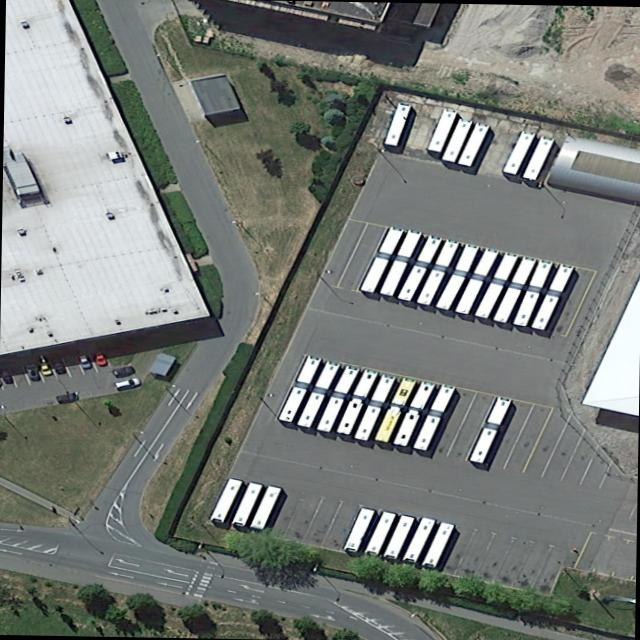large-vehicle: (357, 225, 406, 292), (472, 250, 520, 317), (452, 246, 500, 313), (433, 242, 481, 309), (491, 254, 538, 322), (276, 354, 323, 422), (377, 227, 424, 295), (314, 364, 361, 431), (414, 237, 461, 304), (295, 359, 341, 427), (410, 382, 456, 450), (352, 372, 397, 441), (467, 394, 512, 463), (529, 262, 575, 329), (334, 367, 380, 434), (373, 375, 419, 442), (396, 233, 442, 300), (391, 379, 436, 446), (511, 257, 554, 326), (400, 515, 436, 562), (501, 129, 538, 174), (420, 520, 455, 567), (208, 476, 244, 521), (362, 509, 397, 555), (456, 120, 491, 166), (341, 506, 376, 551), (424, 106, 459, 151), (520, 134, 555, 179), (229, 480, 263, 526), (248, 483, 282, 529), (440, 117, 474, 162), (382, 513, 415, 558), (382, 101, 414, 145)
small-vehicle: (112, 375, 142, 389), (23, 362, 41, 380), (50, 355, 67, 374), (91, 348, 109, 365), (112, 364, 135, 376), (36, 359, 53, 375), (55, 391, 79, 402), (76, 352, 92, 367)
